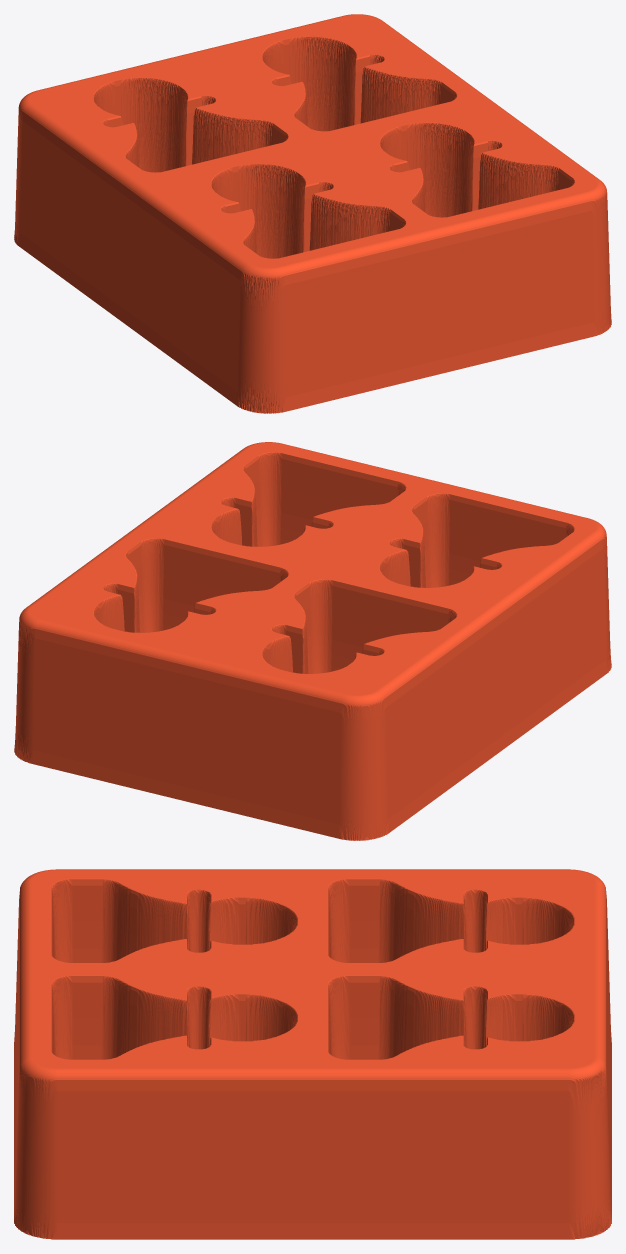
File: mold.glb
3 views of the same model, one above another, from view 1: azimuth 30°, elevation 25°; view 2: azimuth 150°, elevation 25°; view 3: azimuth 270°, elevation 25° (orthographic). The views are drawn at different scales.
Parts seen in each view (by area): view 1: geometry_0; view 2: geometry_0; view 3: geometry_0.
Boxes of the visible parts, x1=… form: geometry_0: x1=14, y1=14, x2=611, y2=413; geometry_0: x1=14, y1=442, x2=611, y2=840; geometry_0: x1=14, y1=869, x2=611, y2=1239.
Bounding box in the file's own units: 0.1049 × 0.0378 × 0.1248.
